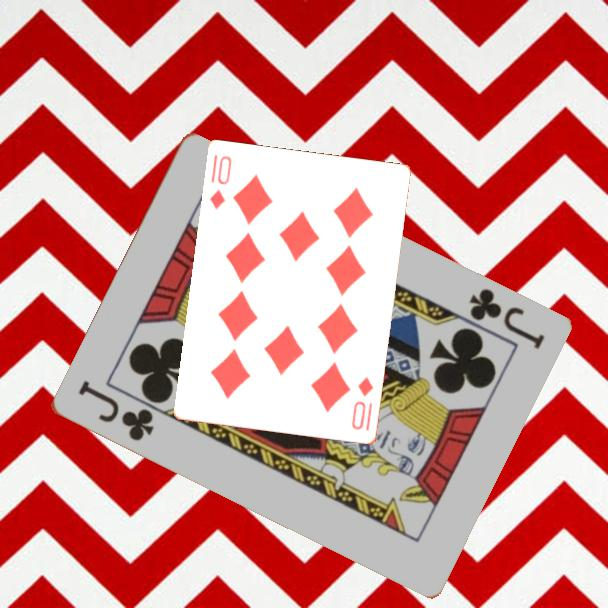c11: (464, 284, 547, 352), (74, 377, 156, 445)
d10: (207, 152, 235, 213), (348, 373, 376, 433)
